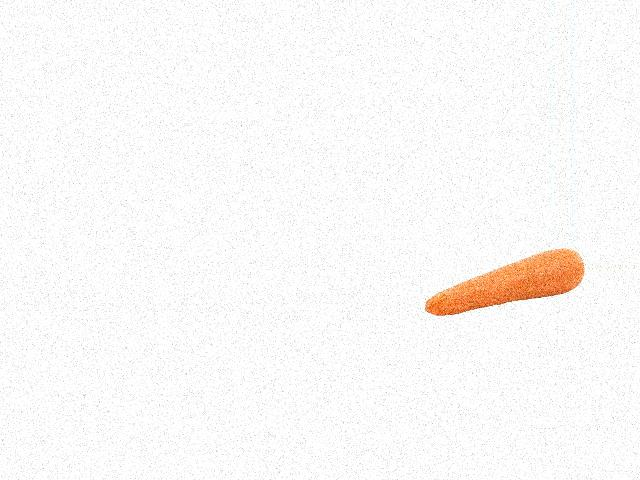carrot: (421, 248, 558, 322)
